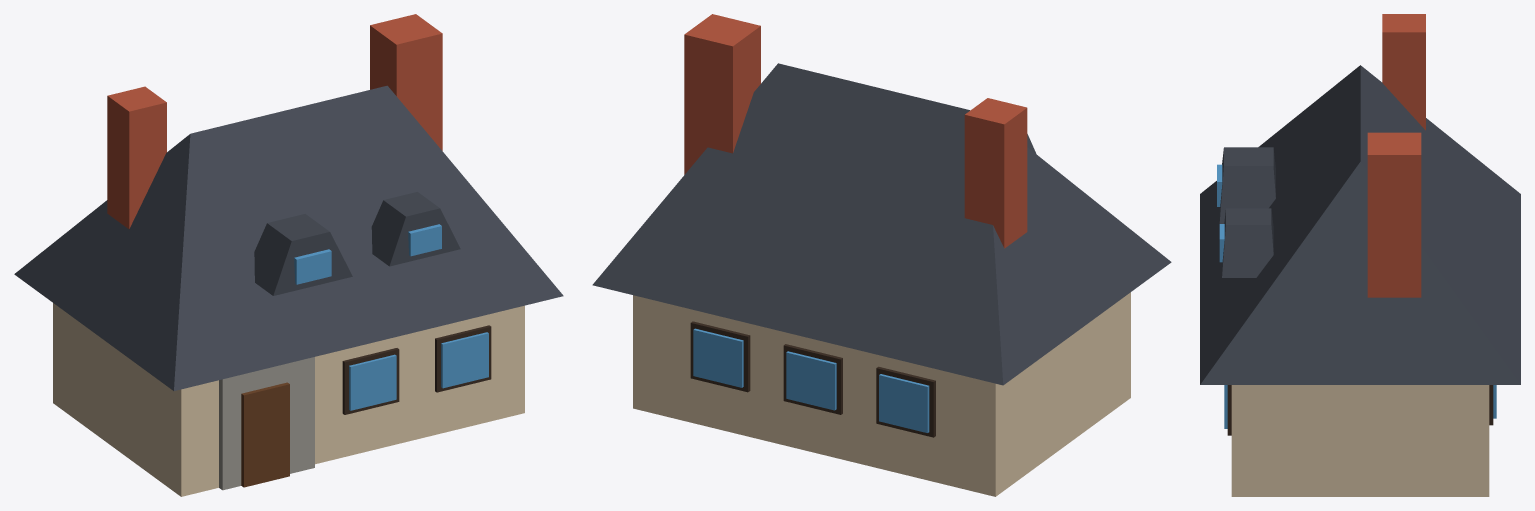
File: 55_polish_karczma_3.obj
3 views of the same model, side by side, from view 1: azimuth 30°, elevation 25°; view 2: azimuth 150°, elevation 25°; view 3: azimuth 270°, elevation 25° (orthographic). The views are drawn at different scales.
Parts seen in each view (by area): view 1: 55_polish_karczma_3; view 2: 55_polish_karczma_3; view 3: 55_polish_karczma_3.
Boxes of the visible parts, x1,y1,x2,y2 form: 55_polish_karczma_3: [14, 14, 563, 496]; 55_polish_karczma_3: [592, 14, 1171, 496]; 55_polish_karczma_3: [1200, 14, 1520, 496].
Size of the model in its own units: 1.86 by 1.52 by 1.32.
